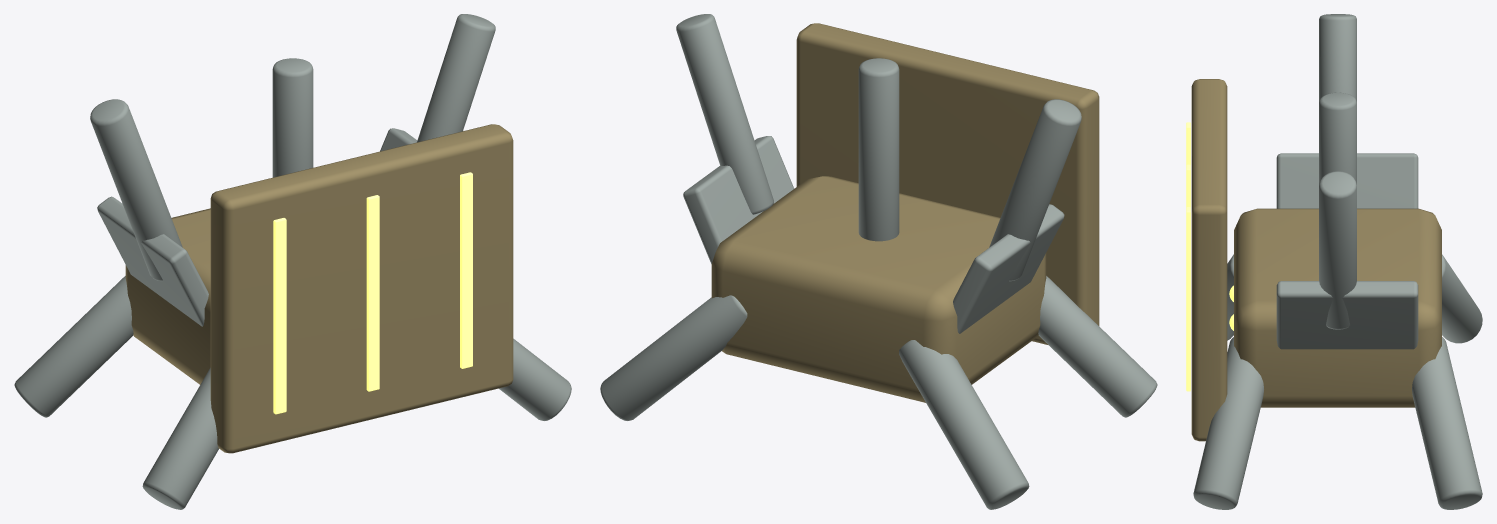
File: card_p3_boss.glb
3 views of the same model, side by side, from view 1: azimuth 30°, elevation 25°; view 2: azimuth 150°, elevation 25°; view 3: azimuth 270°, elevation 25° (orthographic). The views are drawn at different scales.
Visible parts, largest first — view 1: card_p3_boss; view 2: card_p3_boss; view 3: card_p3_boss.
Boxes of the visible parts, x1=… form: card_p3_boss: x1=14, y1=14, x2=571, y2=509; card_p3_boss: x1=600, y1=14, x2=1157, y2=509; card_p3_boss: x1=1186, y1=14, x2=1482, y2=509.
Bounding box in the file's own units: 2.4 × 1.94 × 1.57.
